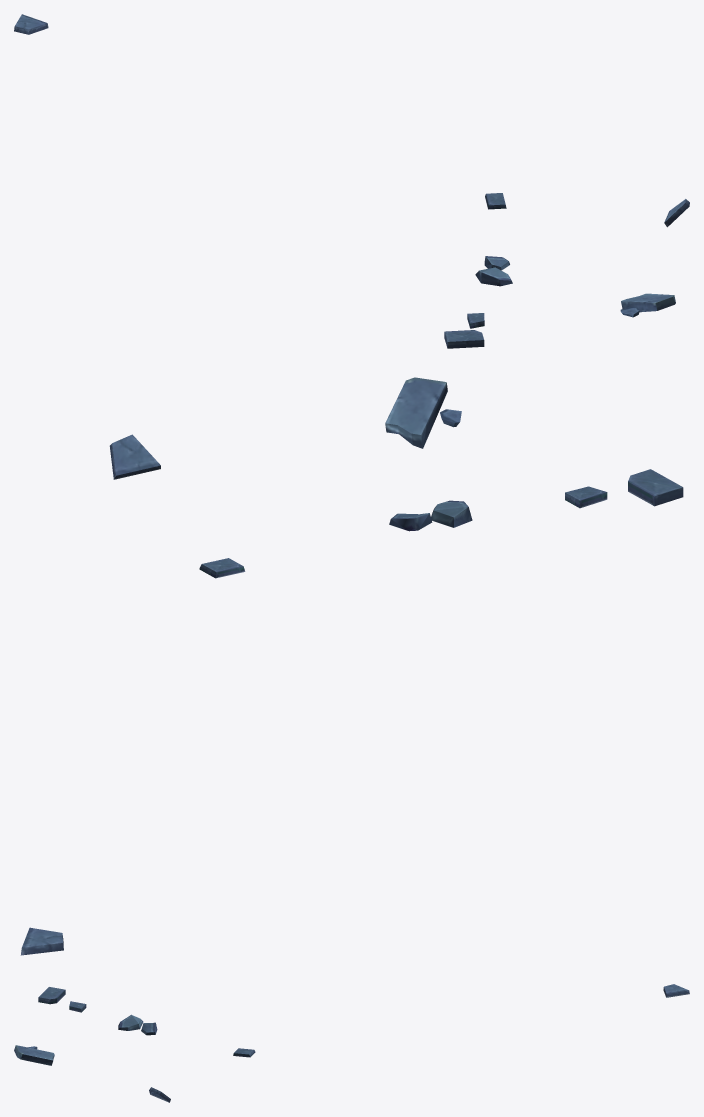
The model's file is Area07_4.fbx.
The picture shows the model from 3 angles, top to bottom: view 1: azimuth 30°, elevation 25°; view 2: azimuth 150°, elevation 25°; view 3: azimuth 270°, elevation 25°; orthographic projection. The views are drawn at different scales.
Visible parts, largest first — view 1: Area07_4; view 2: Area07_4; view 3: Area07_4.
Boxes of the visible parts, left/top/right/bottom form: Area07_4: left=14, top=14, right=689, bottom=348; Area07_4: left=20, top=377, right=683, bottom=955; Area07_4: left=14, top=984, right=689, bottom=1102.
Size of the model in its own units: 2009 by 169 by 5016.
Materials: 1 (1 with a texture image).
